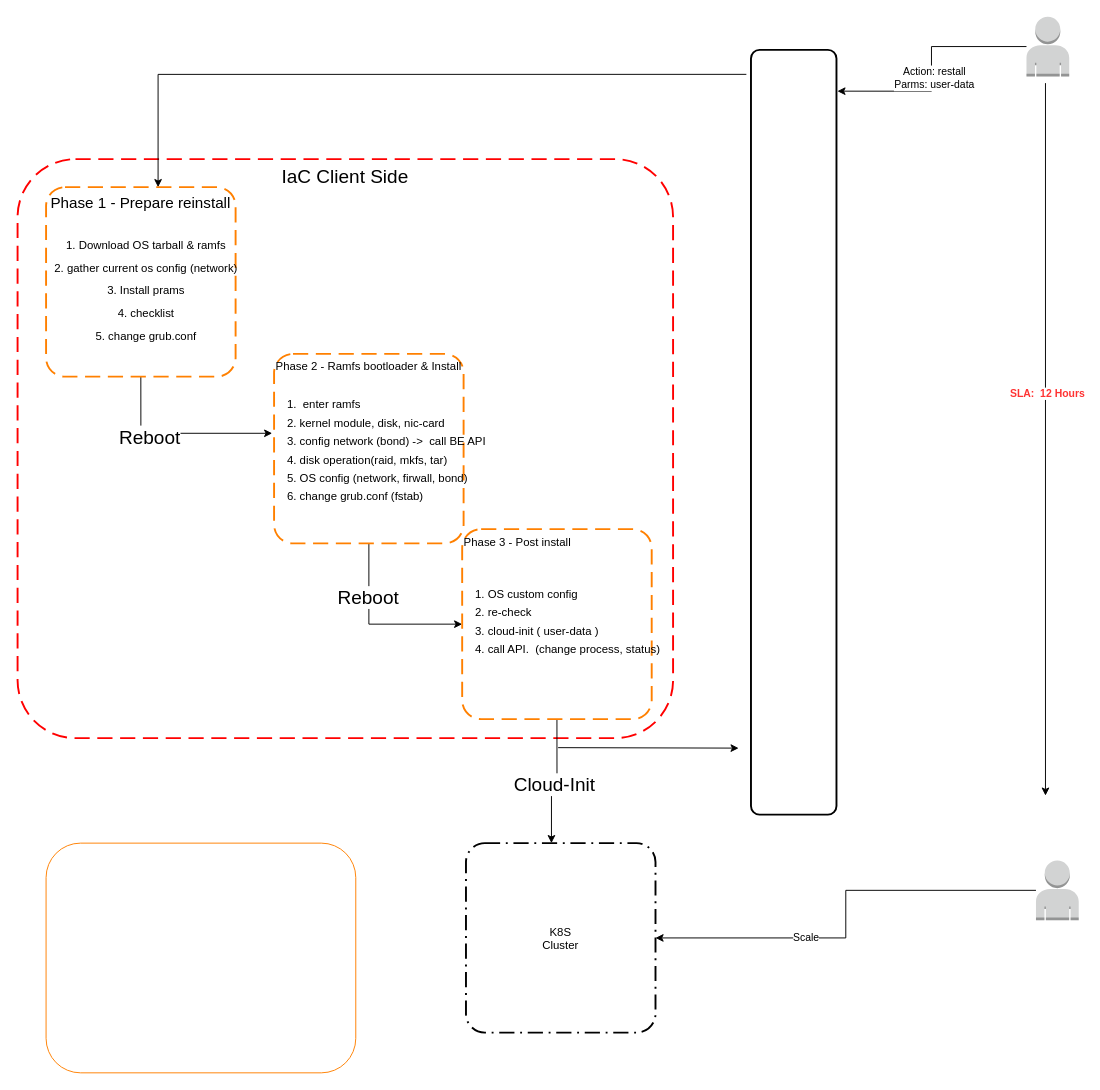
This 1100x1090 diagram has some shape labels left out. The centre of each missing label's shape, as x and y in pixels:
"IaC Management (API)" goes at point 200,957.
"SWP" goes at point 793,431.
